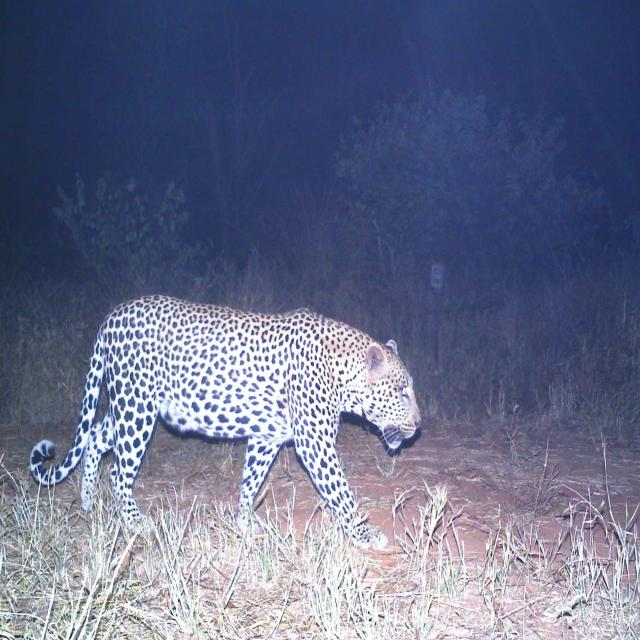Leopard: (6, 297, 430, 548)
